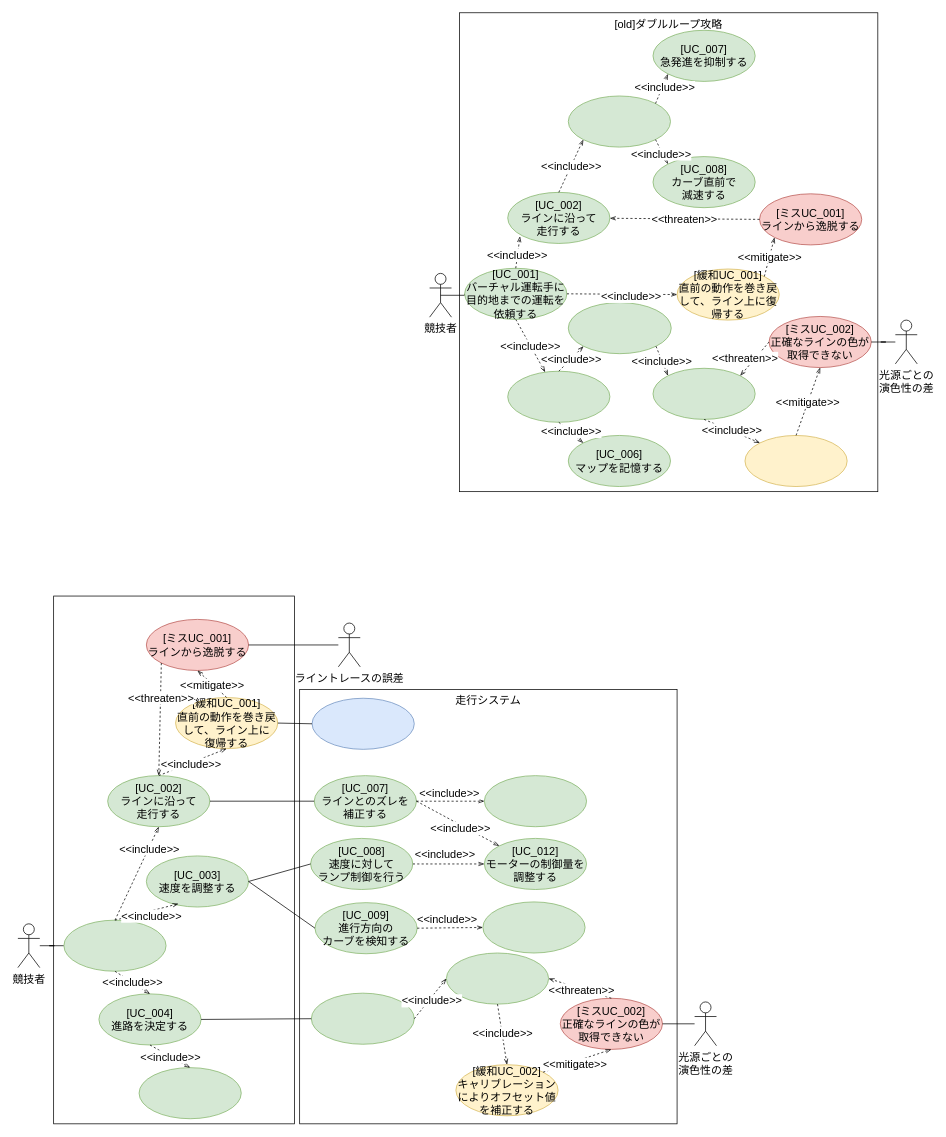
This 946x1137 diagram has some shape labels left out. The box of each missing label's shape, as (x1, y1, x2, y2) in pixels:
[ UC_004] 速度を制御する: (568, 95, 671, 147)
[UC_001] 目的地までの運転を依頼する: (63, 919, 166, 971)
[UC_003] 進路を決定する: (507, 370, 610, 422)
[UC_005] マップを記憶する: (138, 1067, 241, 1119)
[UC_005] 分岐合図を検知する: (568, 302, 671, 354)
[UC_006] 直前の動作を 記録する: (311, 698, 414, 749)
[UC_009] ラインの色を判定する: (652, 368, 755, 419)
[UC_010] 分岐合図を検知する: (311, 992, 414, 1044)
[UC_011] 直下の床面の色を 取得する: (484, 775, 587, 827)
[UC_013] ライン形状を 解析する: (482, 901, 585, 953)
[UC_014] ラインの色を 判定する: (446, 952, 549, 1004)
[緩和UC_002] キャリブレーションに より オフセットを設定する: (744, 435, 847, 487)
バーチャル運転手: (53, 595, 295, 1124)
